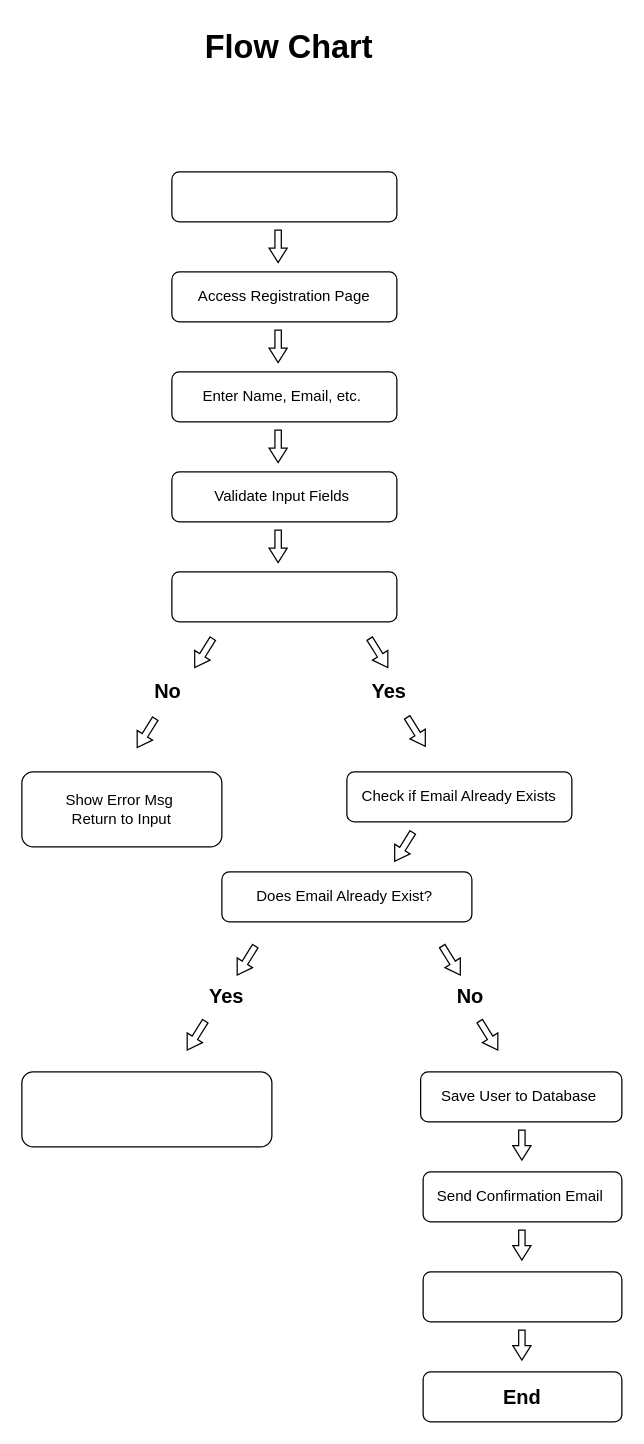
This 644x1444 diagram has some shape labels left out. Here are the shapes that lost their labels. From the top down, the centre of each, then its label:
At [284,196]: "Start".
At [284,596]: "Is the data valid?".
At [146,1109]: "Show Duplicate Email Error Return to Input".
At [522,1296]: "Show Success / Login".
